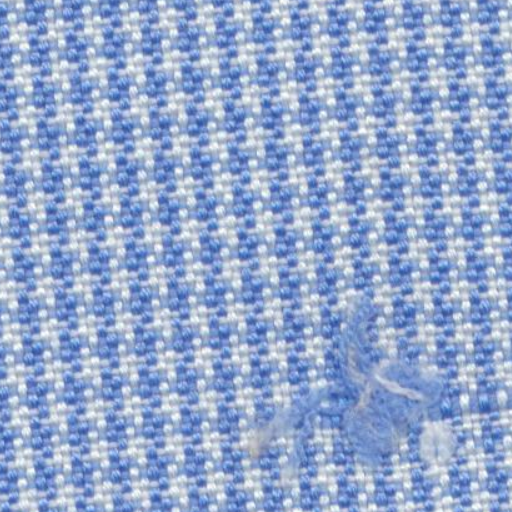MianQiu: (306, 334, 440, 458)
